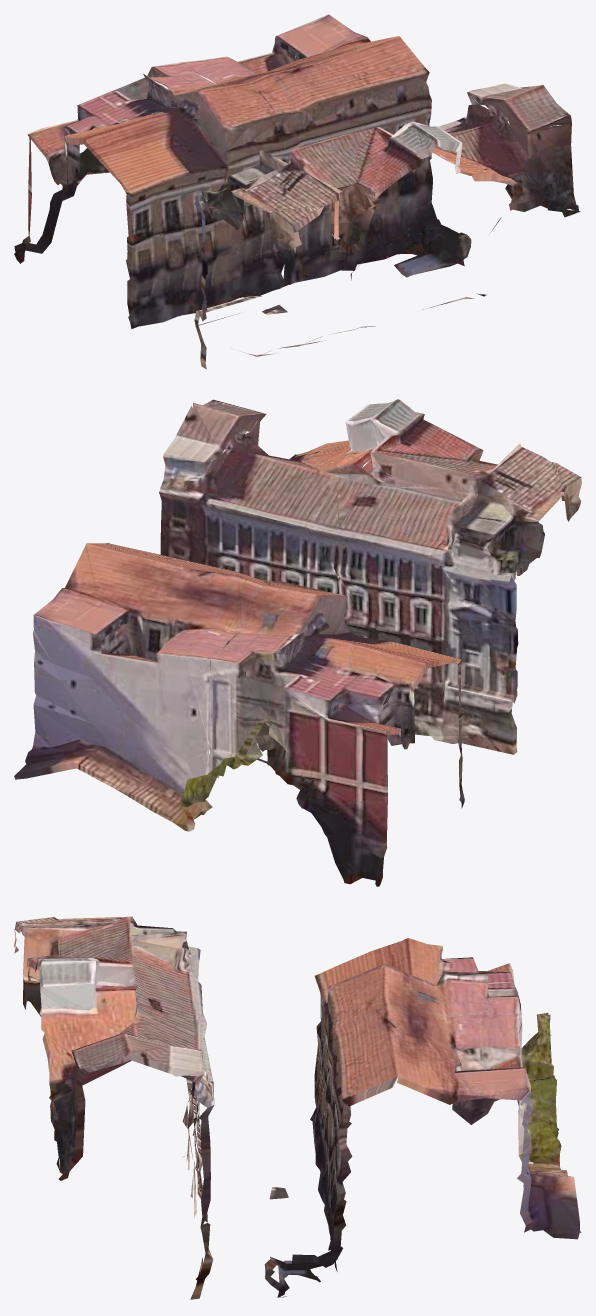
The picture shows the model from 3 angles, top to bottom: view 1: azimuth 30°, elevation 25°; view 2: azimuth 150°, elevation 25°; view 3: azimuth 270°, elevation 25°; orthographic projection. The views are drawn at different scales.
Visible parts, largest first — view 1: Mesh_0; view 2: Mesh_0; view 3: Mesh_0.
Part boxes in pixels (x1,y1,x2,y2): Mesh_0: [14, 14, 580, 369]; Mesh_0: [14, 399, 581, 886]; Mesh_0: [14, 916, 581, 1299].
Bounding box in the file's own units: 33.35 × 21.41 × 41.44.
Materials: 2 (2 with a texture image).
